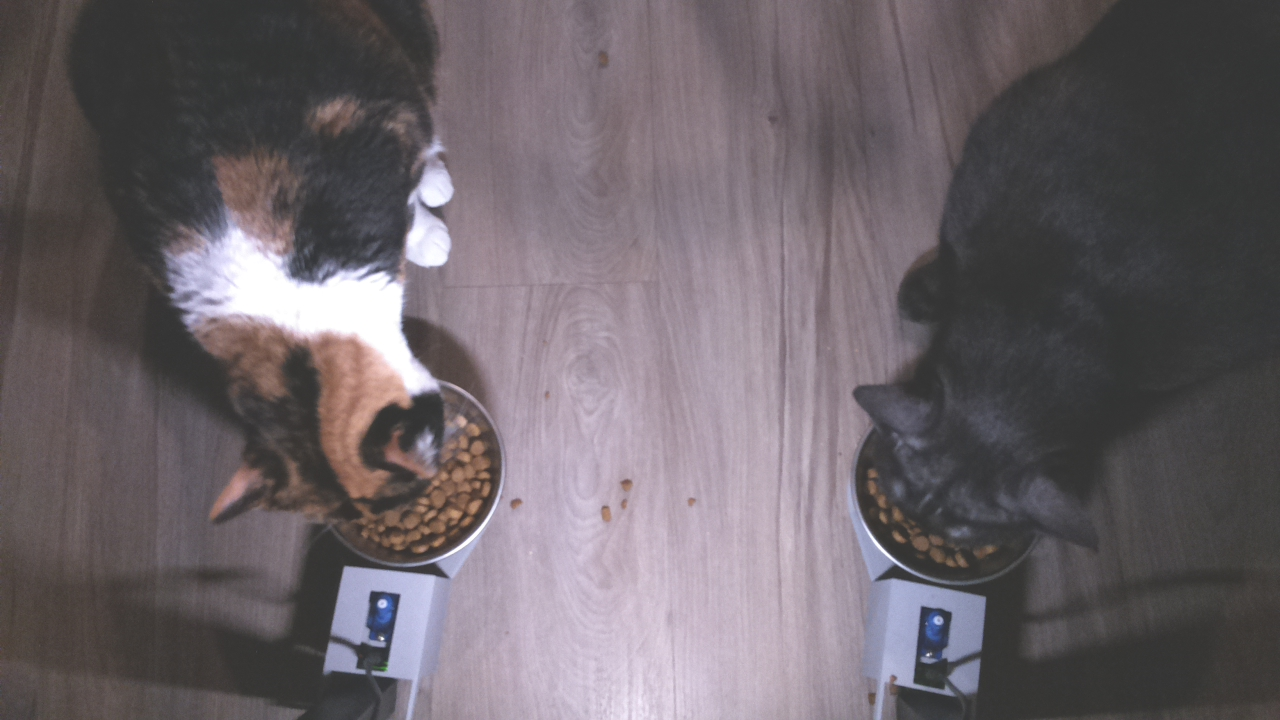bella_eating: (222, 273, 508, 565)
saki_eating: (843, 328, 1120, 591)
